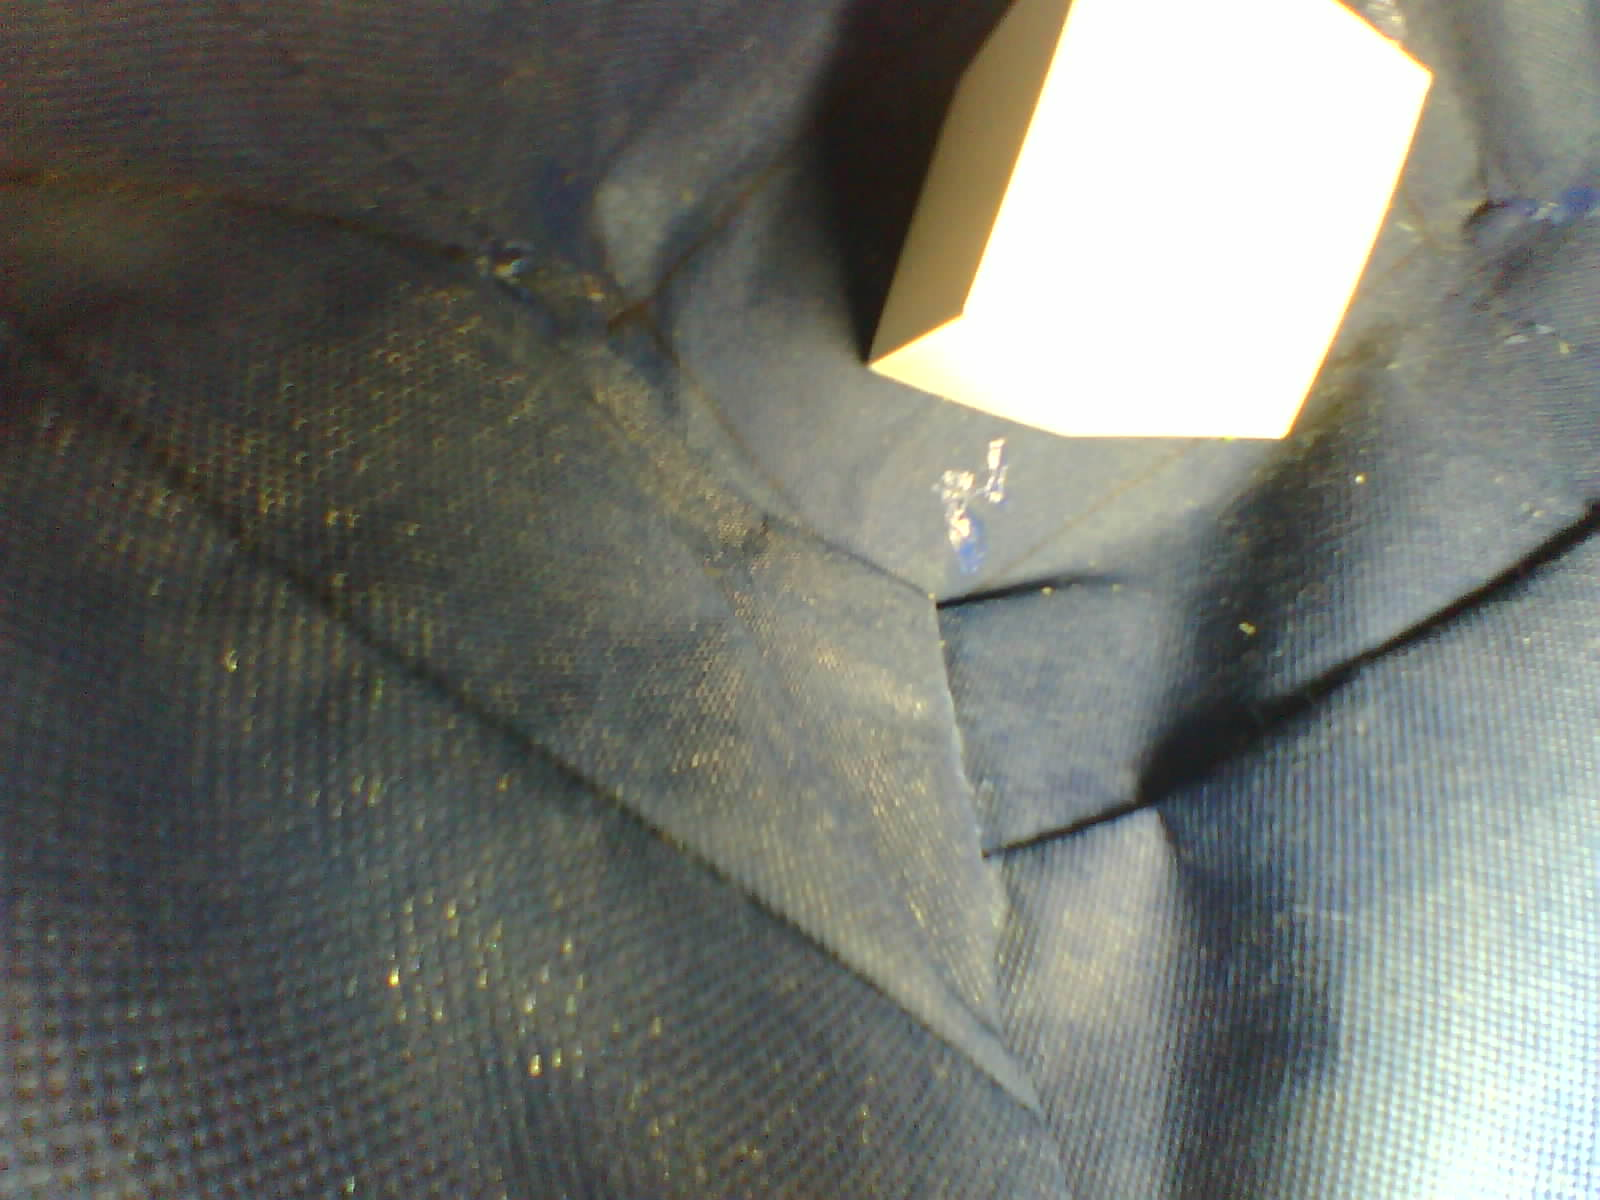cube-hard: (848, 0, 1439, 466)
